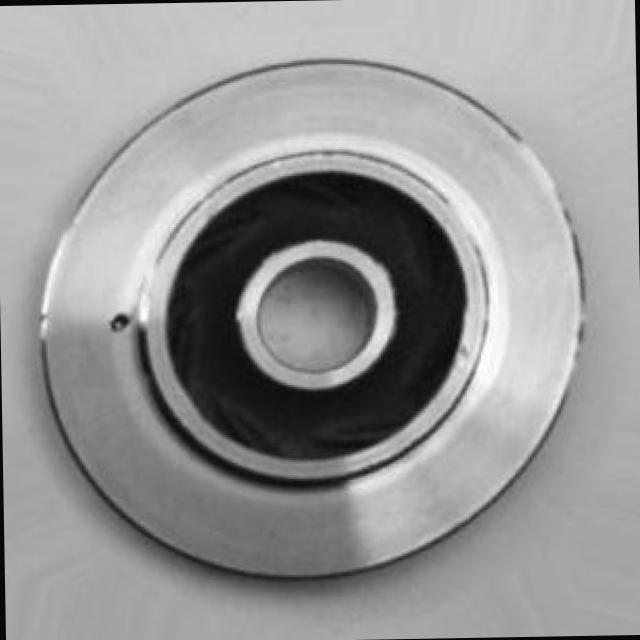Defect: (95, 308, 141, 343)
